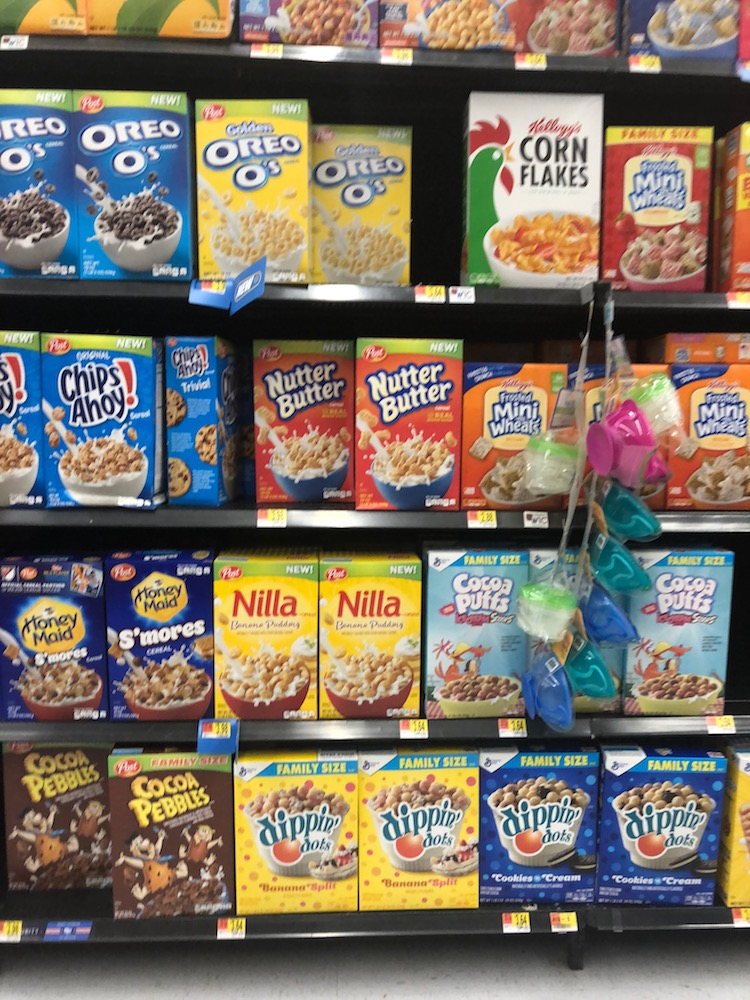Chips Ahoys-565717529: (38, 331, 167, 514)
Cocoa Pebbles-555517893: (101, 747, 244, 920), (1, 744, 106, 896)
Cocoa Puffs Ice Cream-563408546: (419, 542, 537, 722), (626, 545, 741, 706)
Dippin Dots Banana-568929376: (350, 744, 483, 905), (233, 751, 362, 906)
Dippin Dots Cookies & Cream -568929378: (595, 746, 725, 905), (477, 749, 595, 905)
Honey Maid Graham -563424385: (92, 564, 219, 726), (1, 561, 105, 724)
Nilla -568301014: (315, 558, 427, 714), (213, 557, 319, 719)
Nutter Butter-565717511: (354, 338, 470, 510), (249, 334, 366, 504)
Oreo Golden-568301011: (190, 98, 320, 280)
Oreo-563424384: (67, 94, 192, 280)
